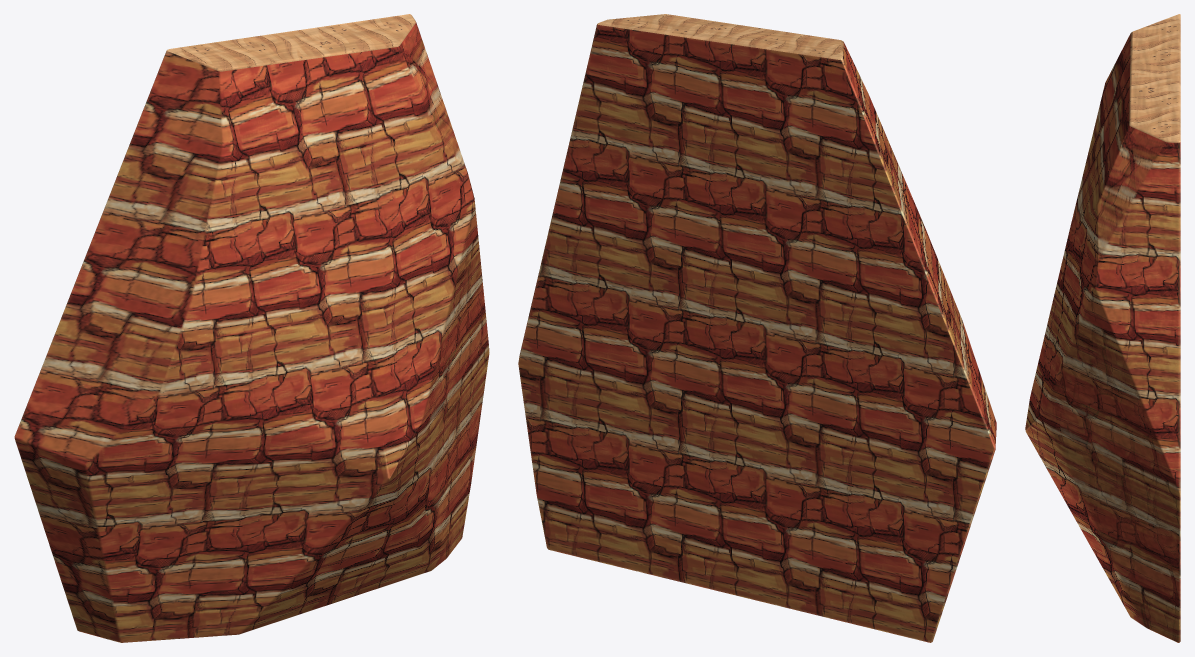
File: v4_cliff_e_04.glb
3 renders of one model, left to right at view 1: azimuth 30°, elevation 25°; view 2: azimuth 150°, elevation 25°; view 3: azimuth 270°, elevation 25°, orthographic. The views are drawn at different scales.
Visible parts, largest first — view 1: v4_cliff_e_04; view 2: v4_cliff_e_04; view 3: v4_cliff_e_04.
Part boxes in pixels (<box>): v4_cliff_e_04: <box>14,14,489,642</box>; v4_cliff_e_04: <box>518,14,996,642</box>; v4_cliff_e_04: <box>1025,14,1180,642</box>.
Size of the model in its own units: 6.93 by 7.82 by 2.2.
Materials: 1 (1 with a texture image).
